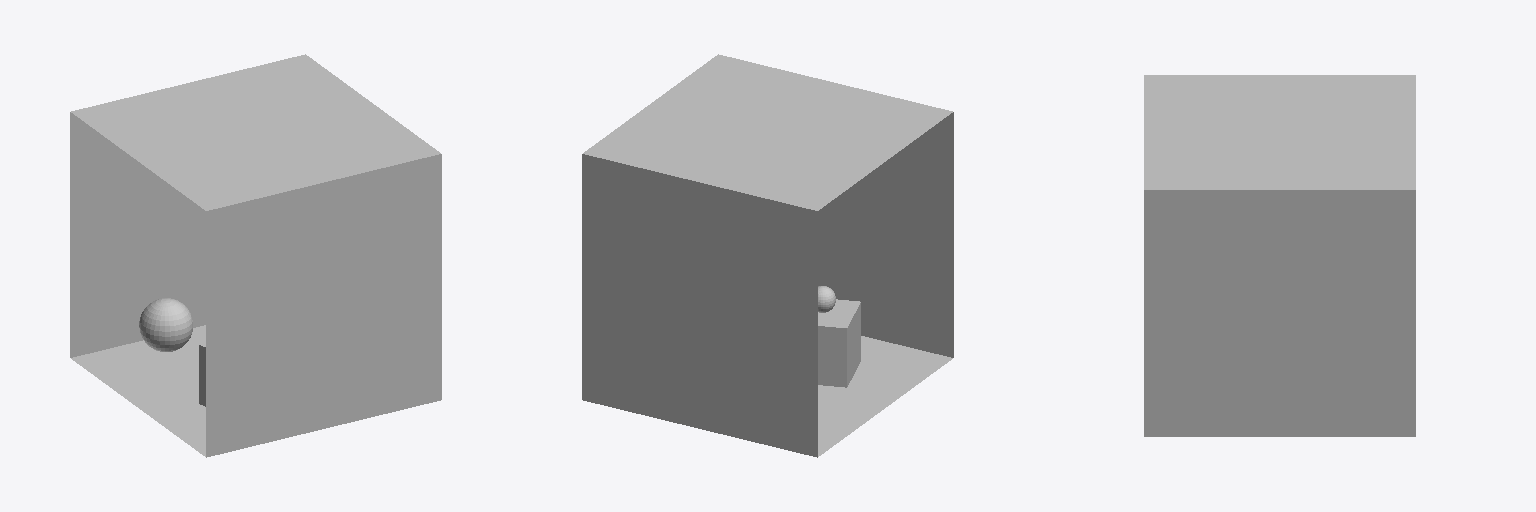
File: cornell-box.obj
3 views of the same model, side by side, from view 1: azimuth 30°, elevation 25°; view 2: azimuth 150°, elevation 25°; view 3: azimuth 270°, elevation 25° (orthographic).
Parts seen in each view (by area): view 1: Right_Wall_Plane.004, Ceil_Plane.001, Left_Wall_Plane.003, Floor_Plane, Sphere.002; view 2: Left_Wall_Plane.003, Ceil_Plane.001, Right_Wall_Plane.004, Floor_Plane, Cube_Cube.001; view 3: Back_Wall_Plane.002, Ceil_Plane.001.
Boxes of the visible parts, x1,y1,x2,y2 form: Right_Wall_Plane.004: [206, 154, 441, 457]; Ceil_Plane.001: [71, 54, 440, 210]; Left_Wall_Plane.003: [70, 112, 205, 357]; Floor_Plane: [71, 325, 205, 456]; Sphere.002: [139, 298, 192, 351]; Left_Wall_Plane.003: [582, 154, 817, 457]; Ceil_Plane.001: [583, 54, 952, 210]; Right_Wall_Plane.004: [818, 112, 953, 357]; Floor_Plane: [818, 336, 952, 456]; Cube_Cube.001: [818, 299, 860, 387]; Back_Wall_Plane.002: [1144, 190, 1415, 436]; Ceil_Plane.001: [1144, 75, 1415, 189].
Bounding box in the file's own units: 5 × 5 × 5.